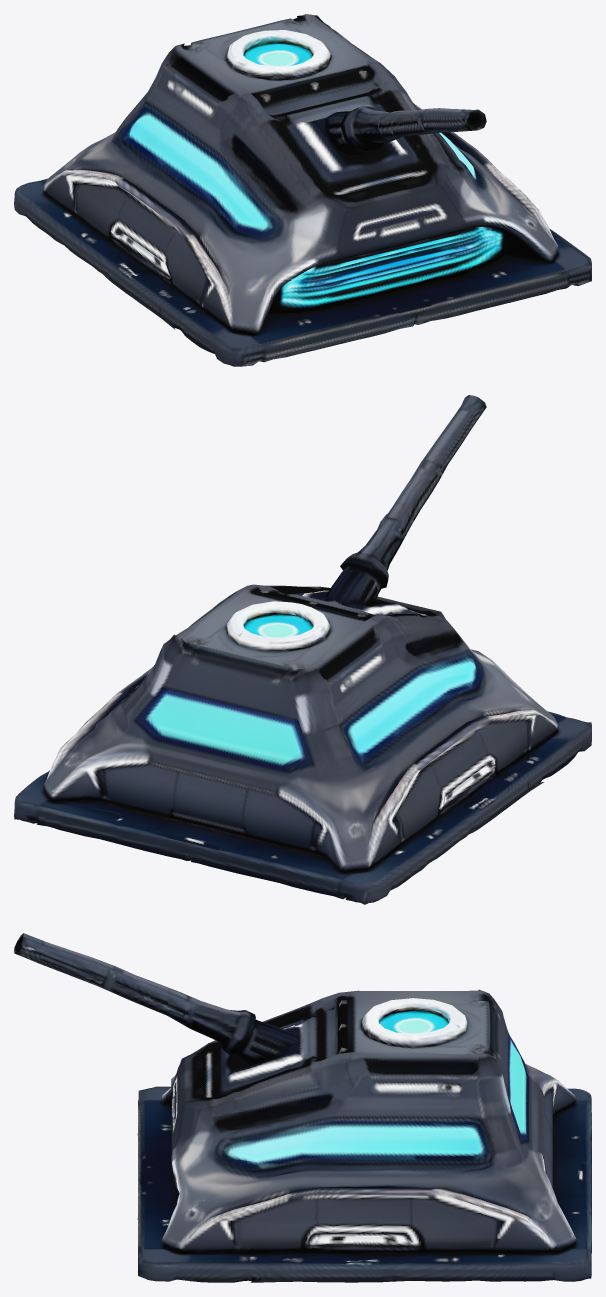
Rendered from base_basic_shaded.fbx.
3 views of the same model, one above another, from view 1: azimuth 30°, elevation 25°; view 2: azimuth 150°, elevation 25°; view 3: azimuth 270°, elevation 25° (orthographic).
Visible parts, largest first — view 1: root.1, root.0, root.3, root.2, root.5, root.4; view 2: root.1, root.0, root.3, root.2, root.5, root.4; view 3: root.1, root.0, root.4, root.2, root.5.
Boxes of the visible parts, x1,y1,x2,y2 form: root.1: (43, 14, 558, 335); root.0: (14, 178, 591, 366); root.3: (46, 169, 230, 323); root.2: (325, 106, 486, 155); root.5: (225, 30, 331, 80); root.4: (415, 104, 554, 239); root.1: (43, 584, 558, 872); root.0: (14, 711, 591, 904); root.3: (370, 710, 555, 864); root.2: (325, 395, 486, 606); root.5: (225, 601, 331, 652); root.4: (47, 667, 152, 778); root.1: (161, 989, 576, 1254); root.0: (137, 1086, 591, 1282); root.4: (184, 1186, 551, 1252); root.2: (14, 933, 303, 1065); root.5: (360, 998, 467, 1048).
Size of the model in its own units: 125 by 84.06 by 170.
